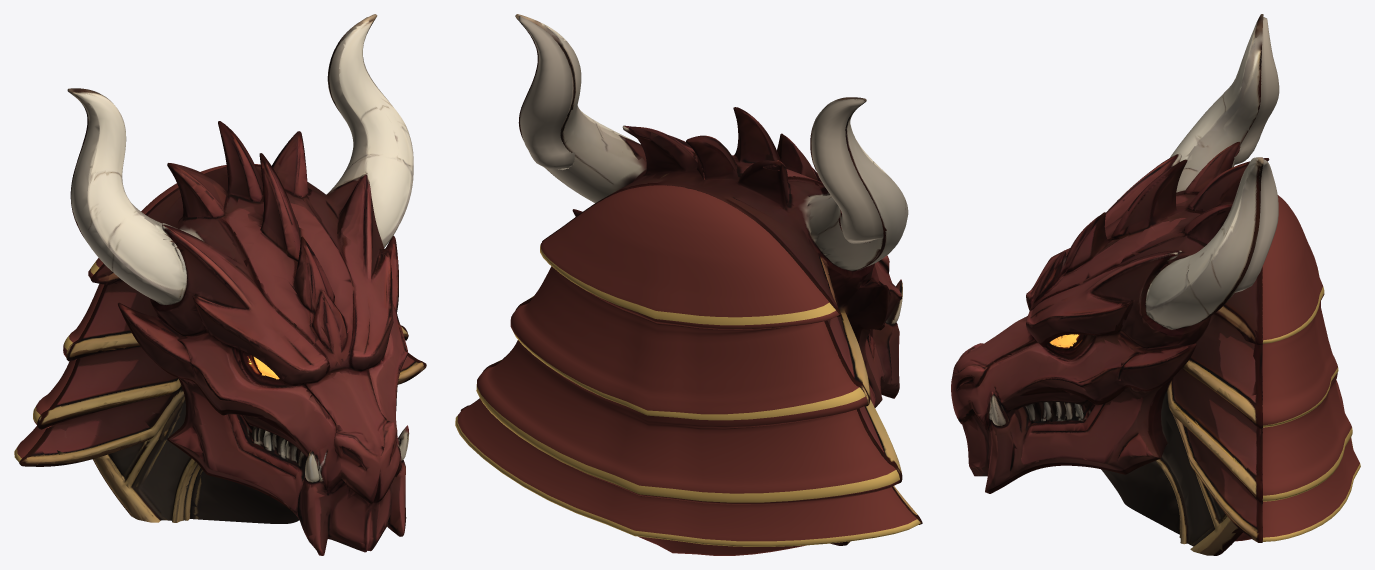
File: h_dragonknight_f.glb
The picture shows the model from 3 angles, left to right: view 1: azimuth 30°, elevation 25°; view 2: azimuth 150°, elevation 25°; view 3: azimuth 270°, elevation 25°; orthographic projection. The views are drawn at different scales.
Parts seen in each view (by area): view 1: DragonKnightHelm; view 2: DragonKnightHelm; view 3: DragonKnightHelm.
Part boxes in pixels (x1=…): DragonKnightHelm: x1=14, y1=14, x2=426, y2=555; DragonKnightHelm: x1=455, y1=14, x2=922, y2=555; DragonKnightHelm: x1=951, y1=14, x2=1360, y2=555.
Bounding box in the file's own units: 0.5266 × 0.5271 × 0.4667.
Materials: 4 (1 with a texture image).
